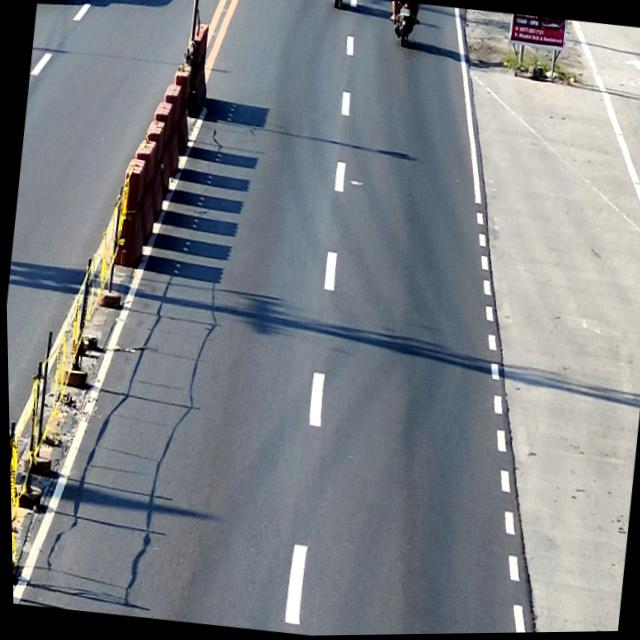License-Plate: (399, 8, 410, 18)
Motorcycle: (386, 2, 421, 52)
